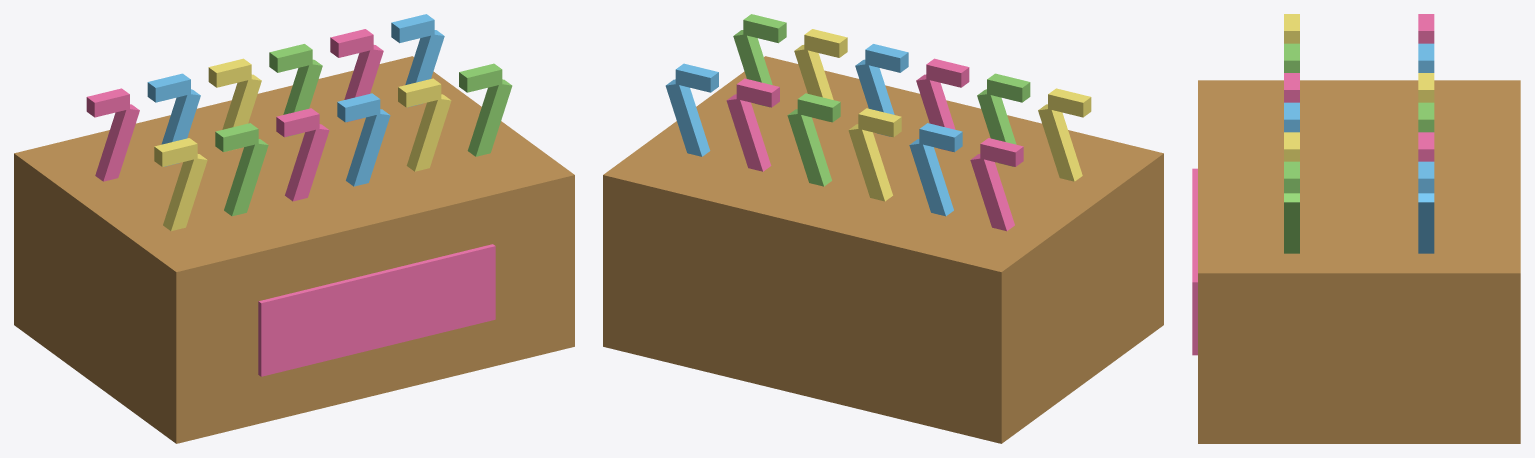
File: seven_candles_box.glb
3 renders of one model, left to right at view 1: azimuth 30°, elevation 25°; view 2: azimuth 150°, elevation 25°; view 3: azimuth 270°, elevation 25°, orthographic.
Parts seen in each view (by area): view 1: box_candles_card, candles, label_candles_label; view 2: box_candles_card, candles; view 3: box_candles_card, candles, label_candles_label.
Part boxes in pixels (box(x1,y1,x2,y2)): box_candles_card: box(14, 56, 574, 443); candles: box(86, 14, 512, 231); label_candles_label: box(258, 244, 495, 376); box_candles_card: box(603, 56, 1163, 443); candles: box(665, 14, 1091, 231); box_candles_card: box(1198, 80, 1520, 443); candles: box(1284, 14, 1434, 253); label_candles_label: box(1192, 168, 1197, 355).
Bounding box in the file's own units: 0.34 × 0.206 × 0.244.
